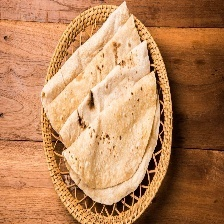roti: (39, 0, 161, 206)
